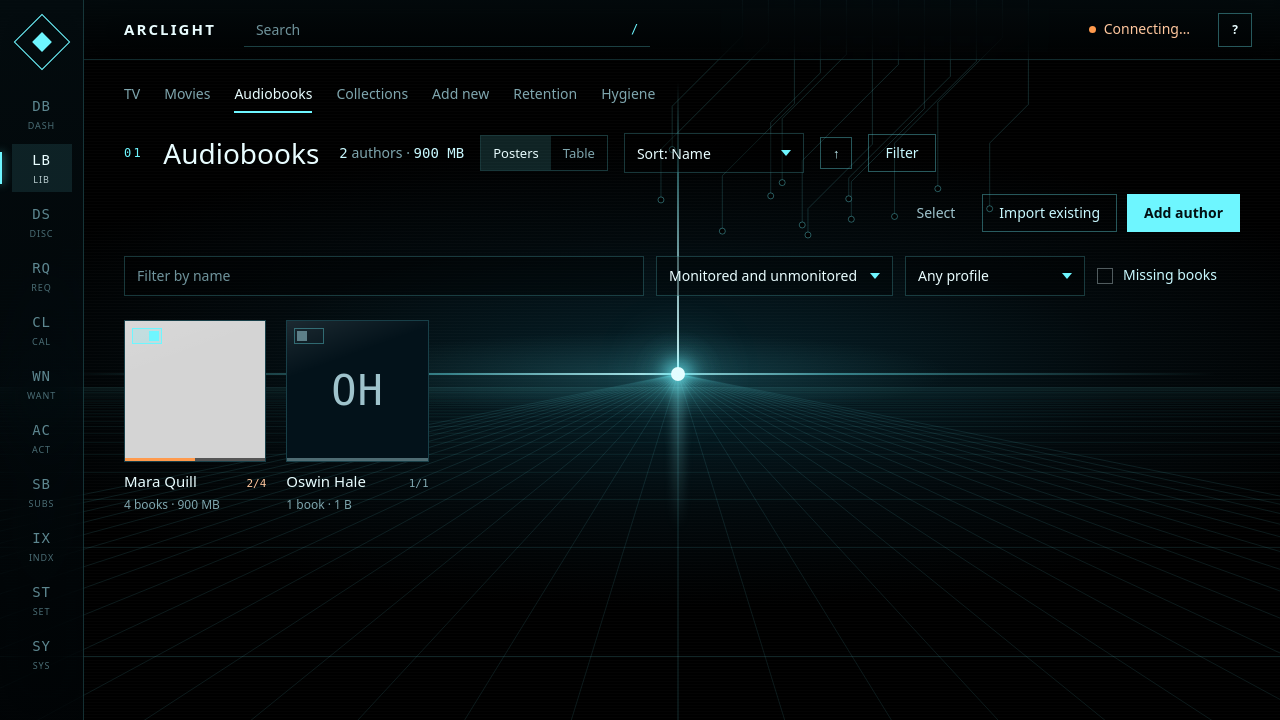
Test: feature flag › lists authors with headshots or initials, and a table view
Expected: the picture named "Oswin Hale" reads "OH", [331,366,384,415]
Expected: the text "2/4" is shown, [246,476,266,492]
Click the button "Table" at (579, 153), box [551,136,607,170]
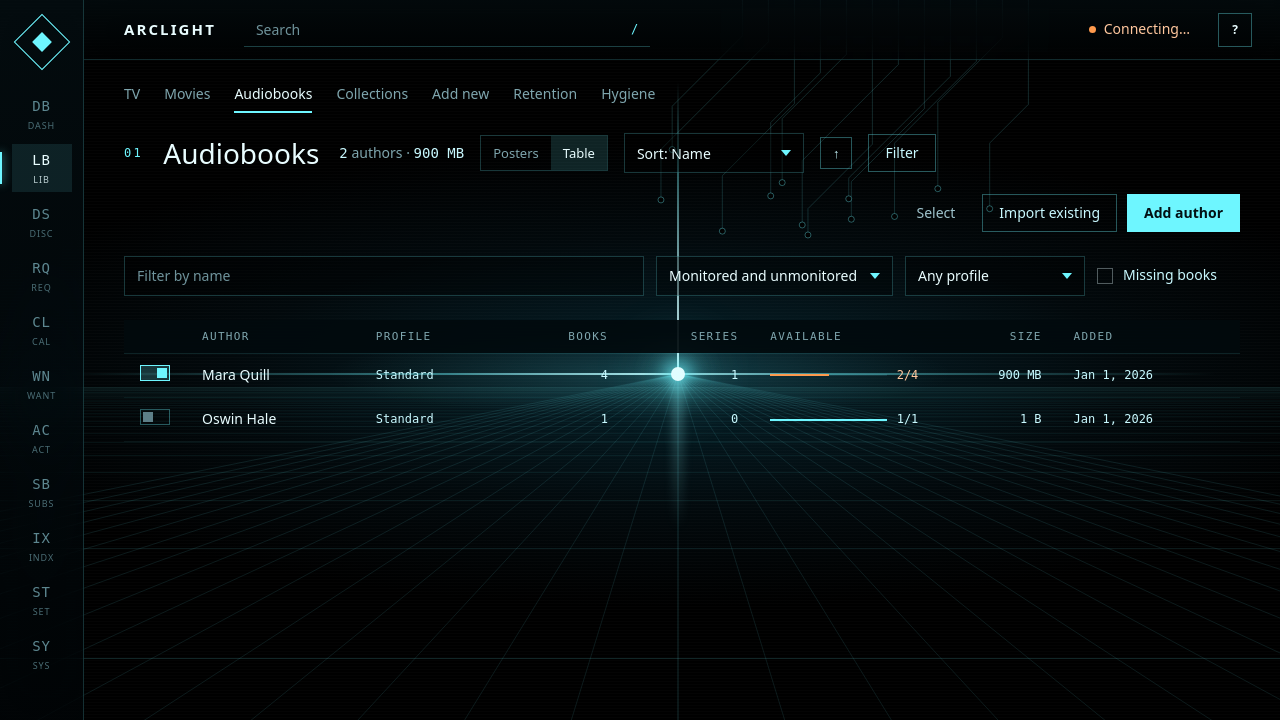
Expected: the column heading "Books" is shown, [507,320,624,353]
Type "oswin" into the search field named "Filter authors" at (384, 276), box [124,256,644,296]
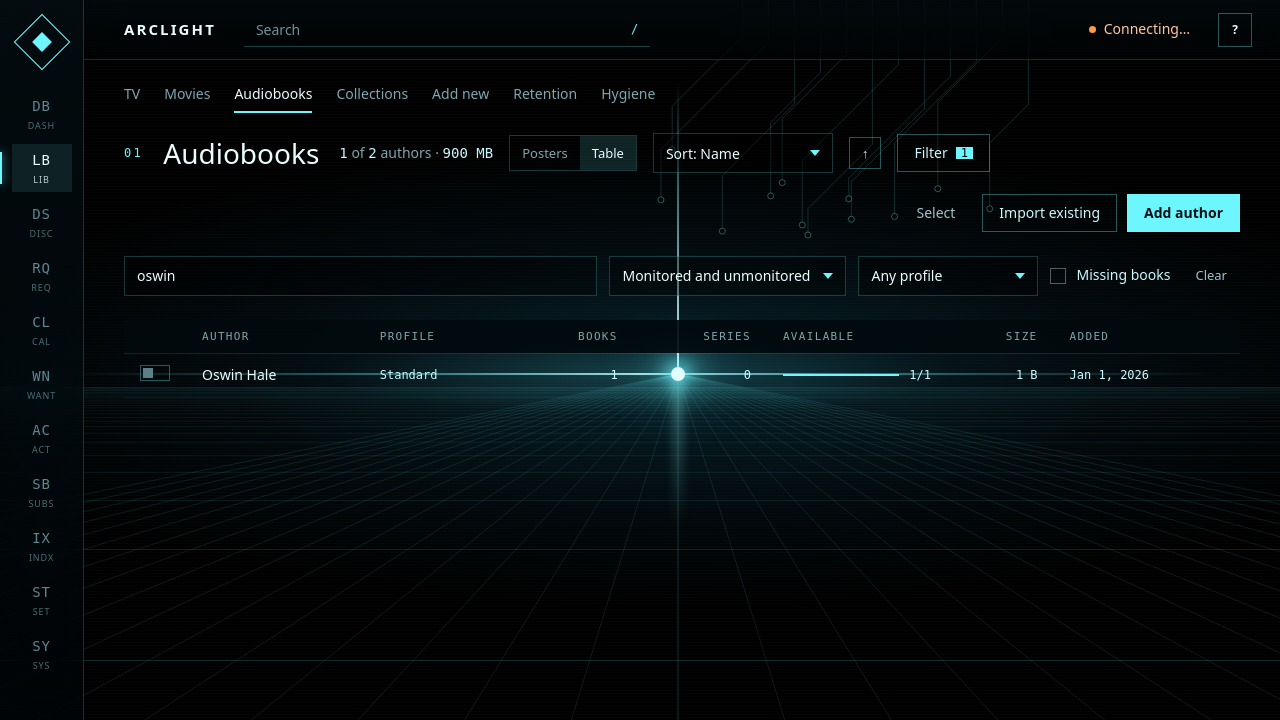
Now the link "Mara Quill" is gone
